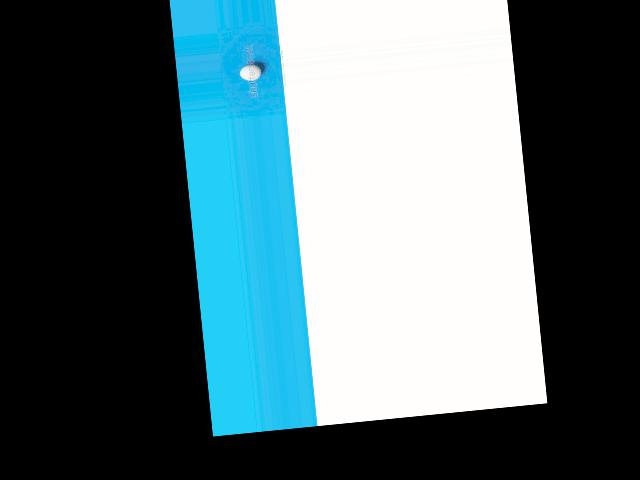egg: (238, 63, 262, 81)
